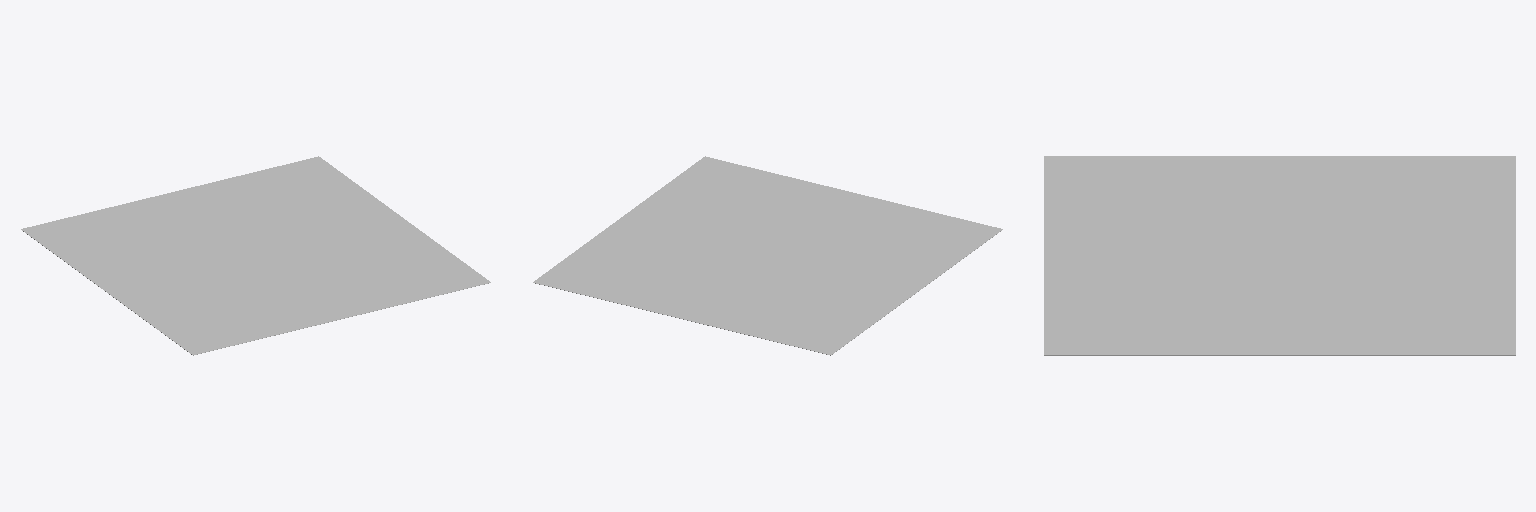
robot.urdf — ground_skeleton:
<?xml version="1.0"?>
<robot name="ground_skeleton">
    <link name="world" />
    <link name="ground_link">
        <inertial>
            <mass value="1.0" />
            <origin xyz="0 0 0" rpy="0 0 0" />
            <inertia ixx="1.0" ixy="0" ixz="0" iyy="1.0" iyz="0" izz="1.0" />
        </inertial>
        <visual>
            <origin xyz="0 0.0 -0.01" rpy="0 -0 0" />
            <geometry>
                <box size="25 25 0.02" />
            </geometry>
            <material name="">
                <color rgba="0.8 0.8 0.8 1" />
            </material>
        </visual>
        <collision>
            <origin xyz="0 0.0 -0.01" rpy="0 -0 0" />
            <geometry>
                <box size="25 25 0.02" />
            </geometry>
        </collision>
    </link>
    <joint name="ground_joint" type="fixed">
        <origin xyz="0 0 0" rpy="0 0 0" />
        <parent link="world" />
        <child link="ground_link" />
    </joint>
</robot>

--- Render facts (derived) ---
The picture shows the robot from 3 angles, left to right: view 1: azimuth 30°, elevation 25°; view 2: azimuth 150°, elevation 25°; view 3: azimuth 270°, elevation 25°; orthographic projection.
Model ground_skeleton with 2 links and 1 joints (1 fixed), rooted at world, posed all joints at 0.
Links seen in each view (by area): view 1: ground_link; view 2: ground_link; view 3: ground_link.
Link boxes in pixels (x1,y1,x2,y2): ground_link: (21,156,490,355); ground_link: (533,156,1002,355); ground_link: (1044,156,1515,355).
Size in the robot's own frame: 25 by 25 by 0.02 metres.
Geometry: primitives only (box / cylinder / sphere), no mesh files.
